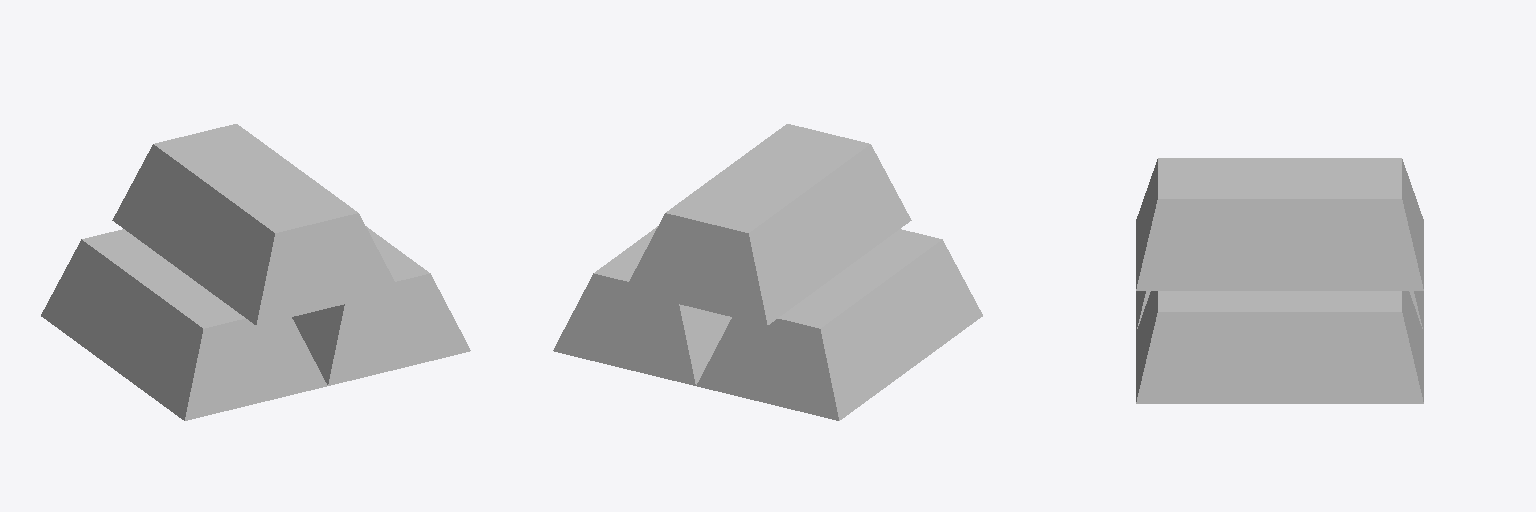
File: bars.obj
The picture shows the model from 3 angles: view 1: azimuth 30°, elevation 25°; view 2: azimuth 150°, elevation 25°; view 3: azimuth 270°, elevation 25°; orthographic projection.
Parts seen in each view (by area): view 1: Cube; view 2: Cube; view 3: Cube.
Part boxes in pixels (x1,y1,x2,y2): Cube: (41,124,470,420); Cube: (553,124,982,420); Cube: (1136,158,1423,403).
Bounding box in the file's own units: 0.8736 × 0.4514 × 0.7595.